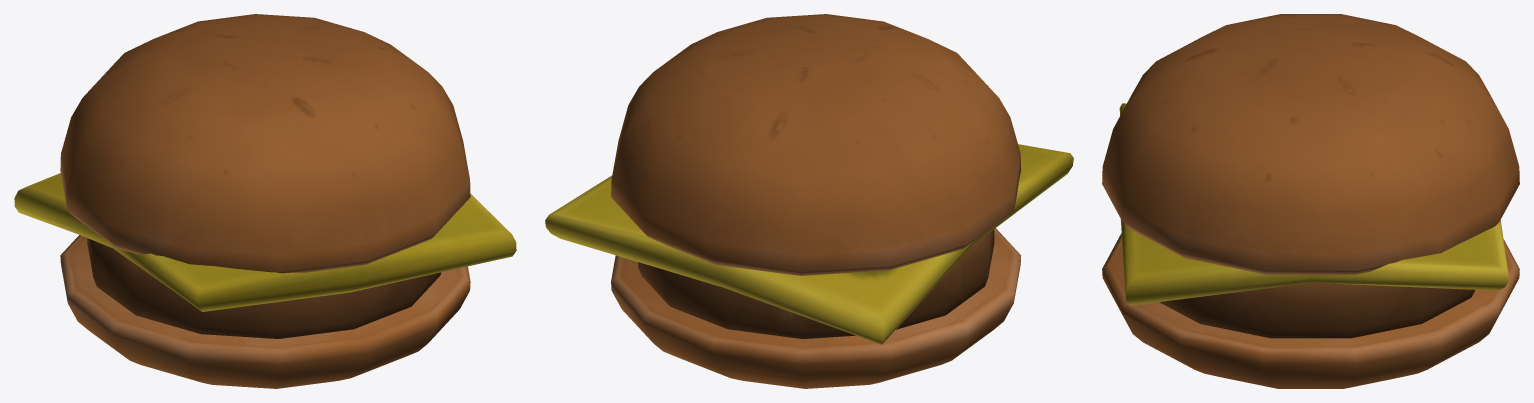
Rendered from MSH_Hamburguesa_P_C_Q.fbx.
The picture shows the model from 3 angles, left to right: view 1: azimuth 30°, elevation 25°; view 2: azimuth 150°, elevation 25°; view 3: azimuth 270°, elevation 25°; orthographic projection.
Parts seen in each view (by area): view 1: MSH_Hamburguesa_P_C_Q; view 2: MSH_Hamburguesa_P_C_Q; view 3: MSH_Hamburguesa_P_C_Q.
Boxes of the visible parts, box(x1,y1,x2,y2) form: MSH_Hamburguesa_P_C_Q: box(14, 14, 516, 388); MSH_Hamburguesa_P_C_Q: box(545, 14, 1073, 388); MSH_Hamburguesa_P_C_Q: box(1102, 14, 1519, 388).
Size of the model in its own units: 14.42 by 14.79 by 11.1.
1 material, 1 textured.
